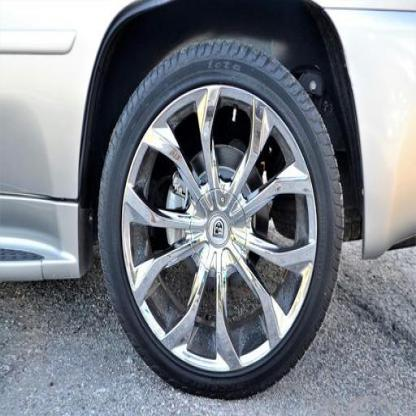Tire: (96, 36, 346, 400)
